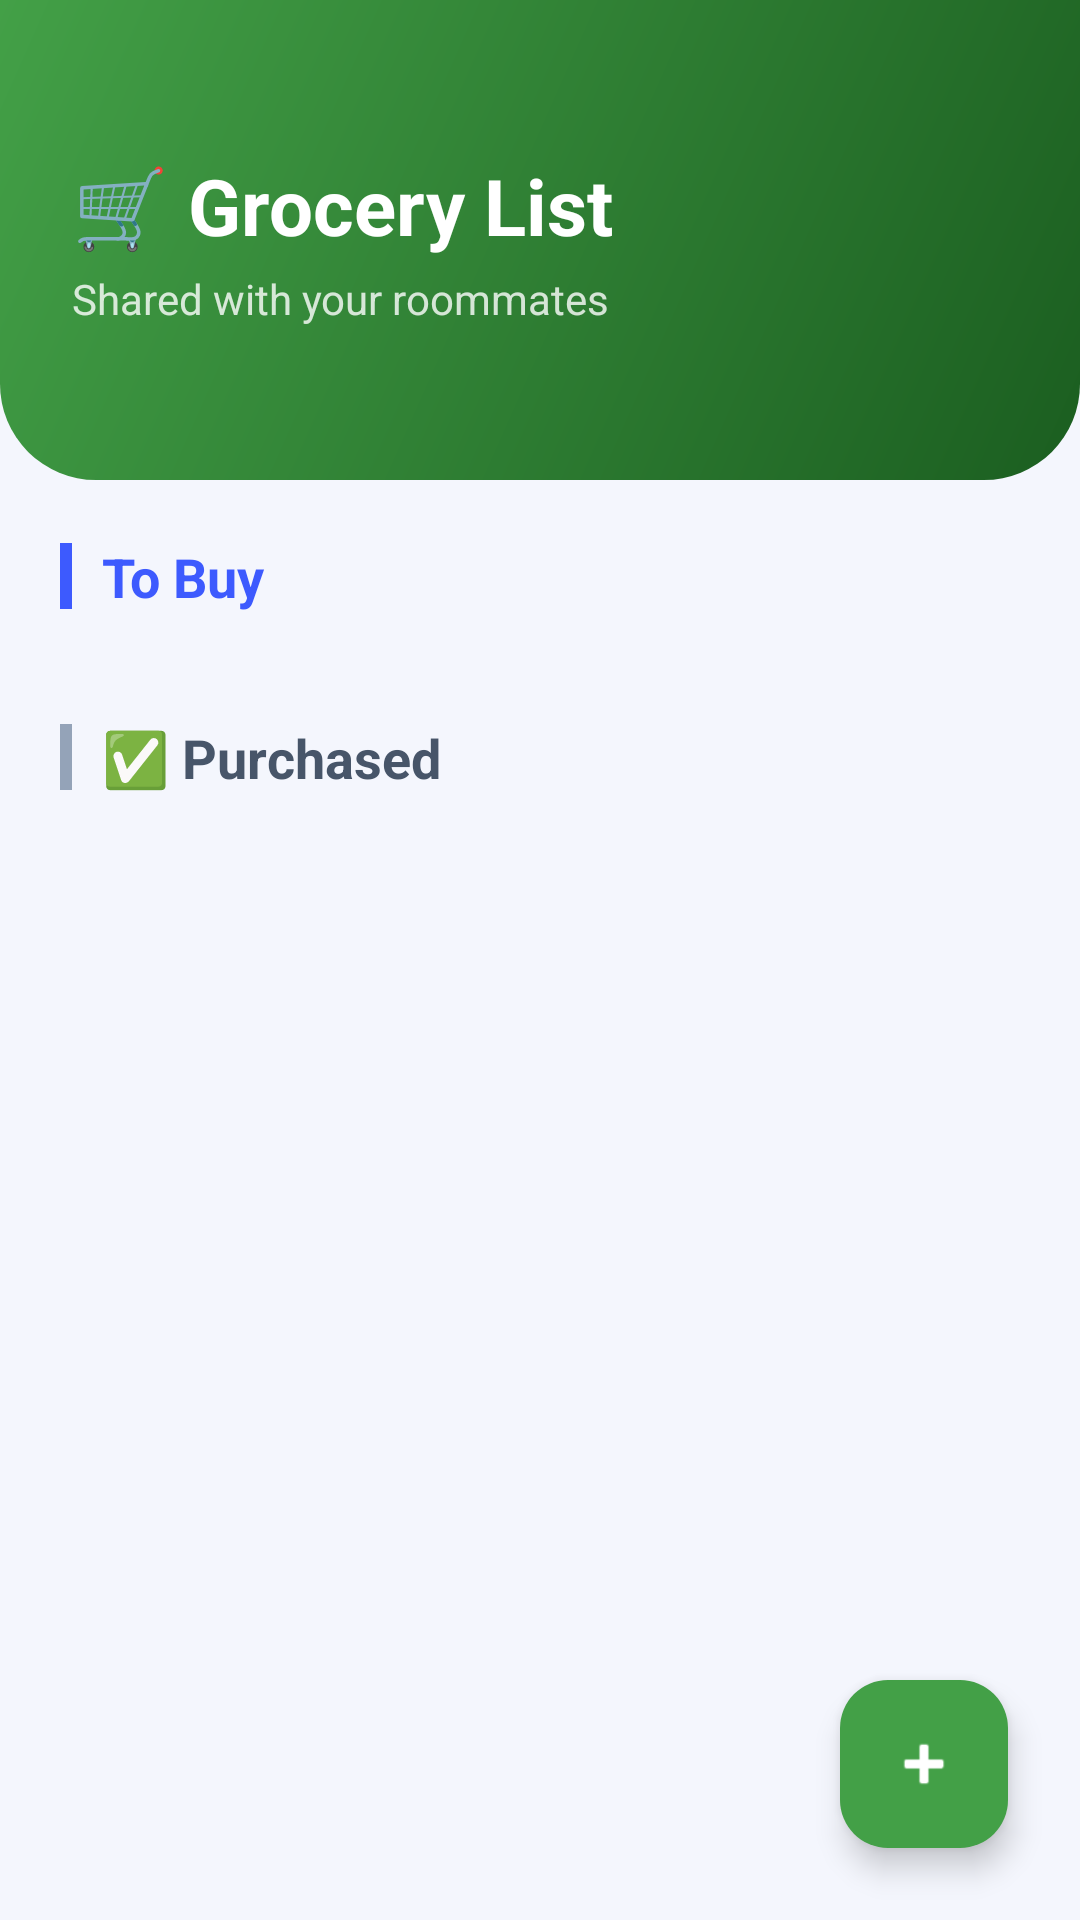

Icons on this 1080 × 1920 Android screen, each with its box as (x1=x1, y1=y1, x2=x2, y2=y2):
Add Grocery: (x1=840, y1=1680, x2=1008, y2=1848)
